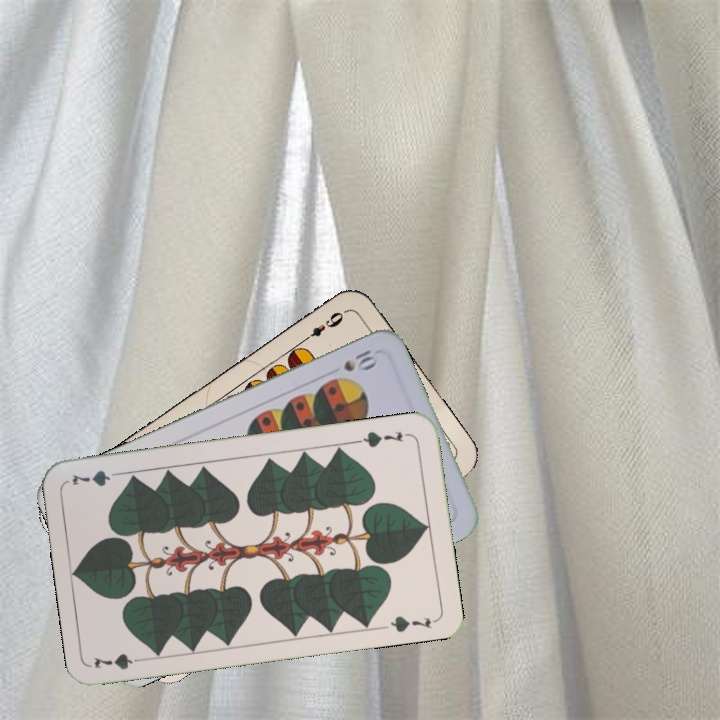E9: (298, 306, 349, 345)
G7: (90, 649, 150, 672), (353, 427, 412, 450)
S10: (339, 344, 381, 374)
